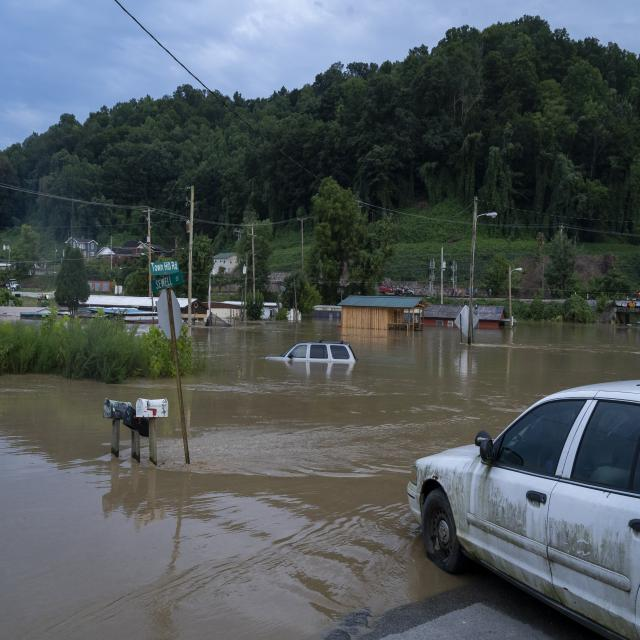flood: (0, 323, 640, 640)
house: (340, 292, 422, 336), (478, 304, 506, 328), (213, 248, 236, 274)
